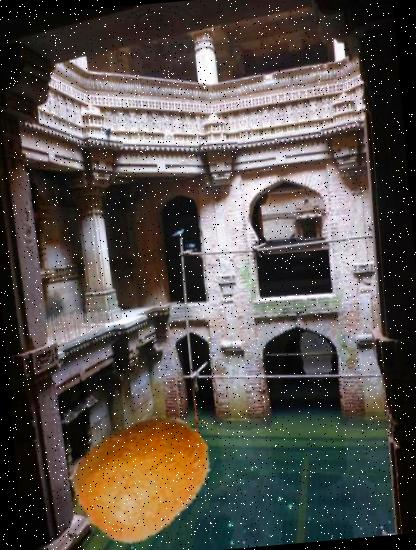Kiwi: (65, 400, 220, 550)
